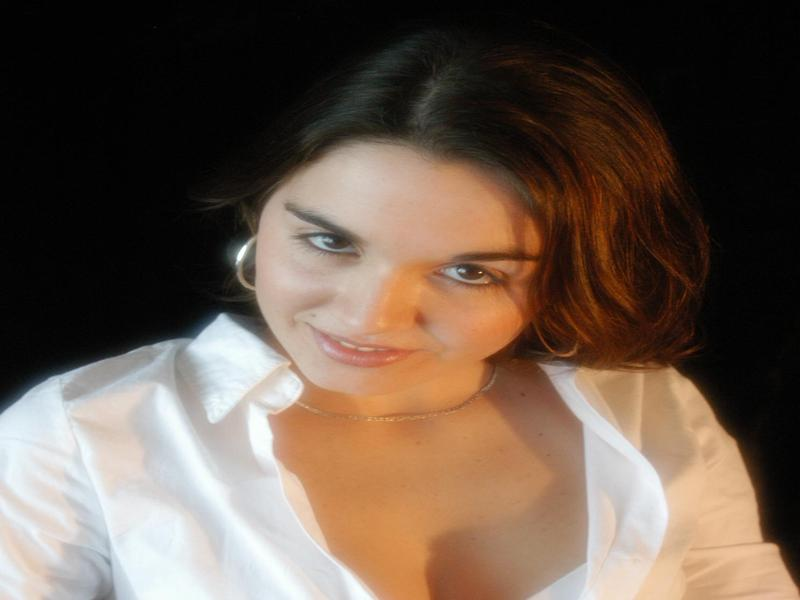person: (1, 34, 794, 600)
